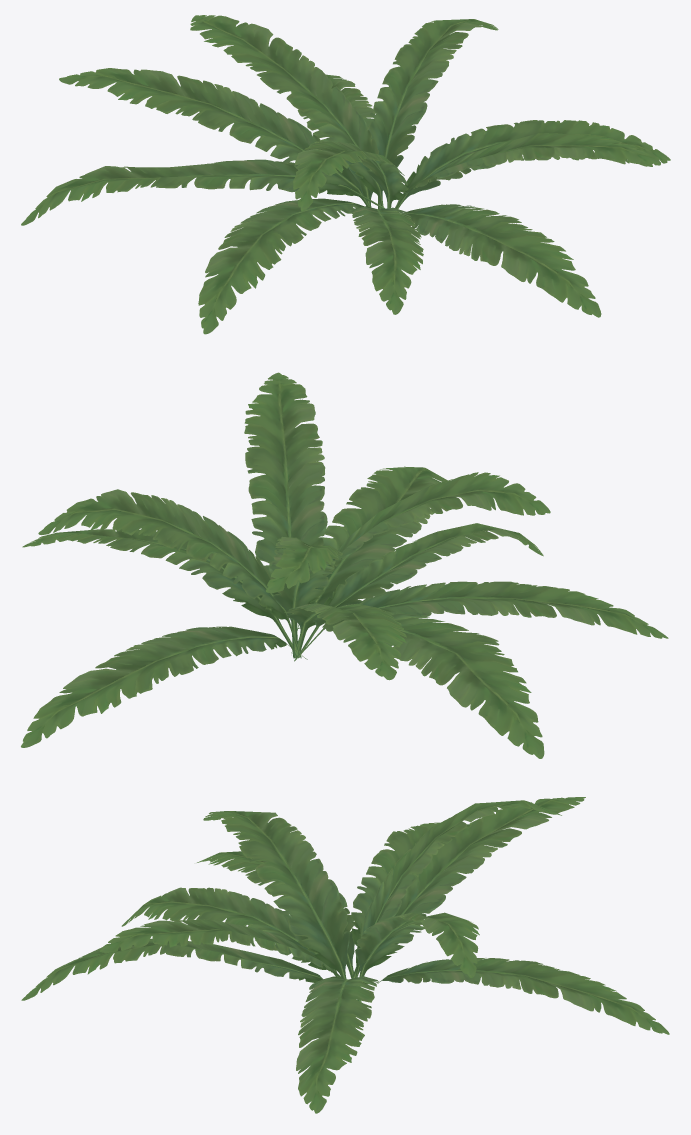
File: SM_EastLands_LongLeaves_02.fbx
3 renders of one model, top to bottom at view 1: azimuth 30°, elevation 25°; view 2: azimuth 150°, elevation 25°; view 3: azimuth 270°, elevation 25°, orthographic. The views are drawn at different scales.
Parts seen in each view (by area): view 1: SM_EastLands_LongLeaves_02_LOD0; view 2: SM_EastLands_LongLeaves_02_LOD0; view 3: SM_EastLands_LongLeaves_02_LOD0.
Part boxes in pixels (<box>): SM_EastLands_LongLeaves_02_LOD0: <box>21,15,670,334</box>; SM_EastLands_LongLeaves_02_LOD0: <box>21,372,668,758</box>; SM_EastLands_LongLeaves_02_LOD0: <box>21,797,669,1113</box>.
Bounding box in the file's own units: 299 × 85.59 × 308.
